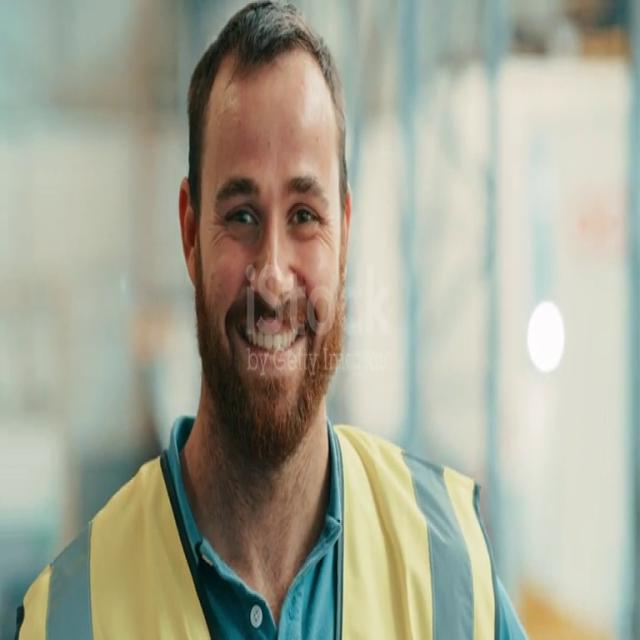sem_capacete: (144, 4, 389, 519)
